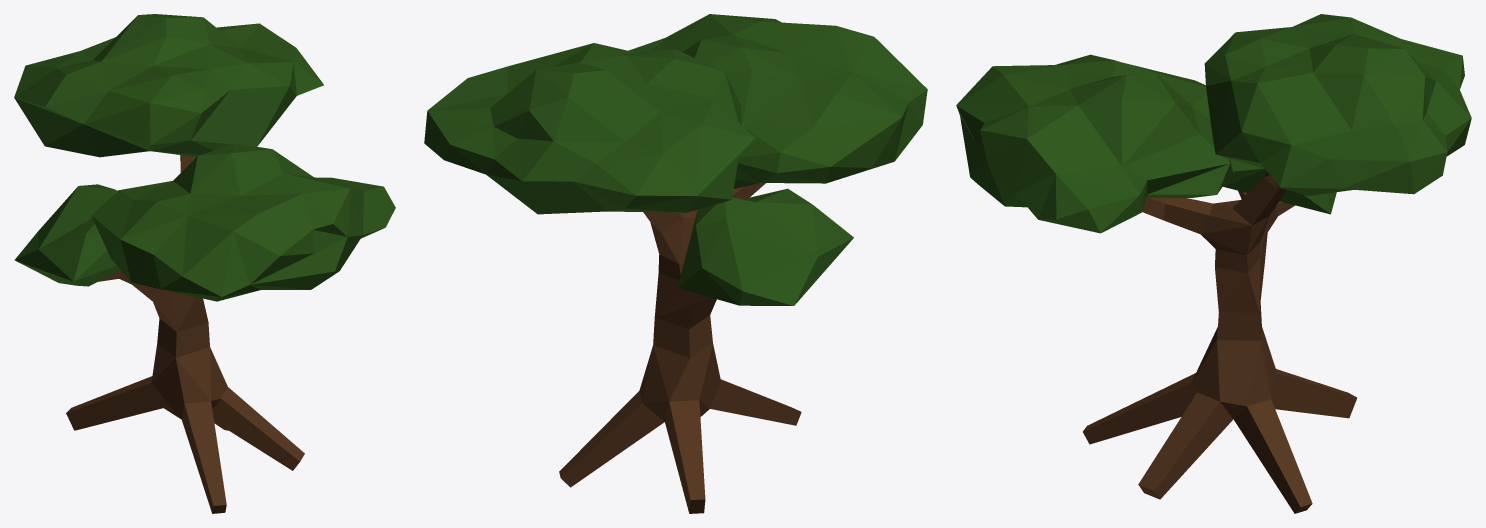
Rendered from Трава 3.fbx.
The picture shows the model from 3 angles, left to right: view 1: azimuth 30°, elevation 25°; view 2: azimuth 150°, elevation 25°; view 3: azimuth 270°, elevation 25°; orthographic projection. The views are drawn at different scales.
Visible parts, largest first — view 1: Куб.057; view 2: Куб.057; view 3: Куб.057.
Boxes of the visible parts, left/top/right/bottom form: Куб.057: left=14, top=14, right=395, bottom=513; Куб.057: left=424, top=14, right=927, bottom=513; Куб.057: left=956, top=14, right=1471, bottom=513.
Bounding box in the file's own units: 595 × 768 × 806.
